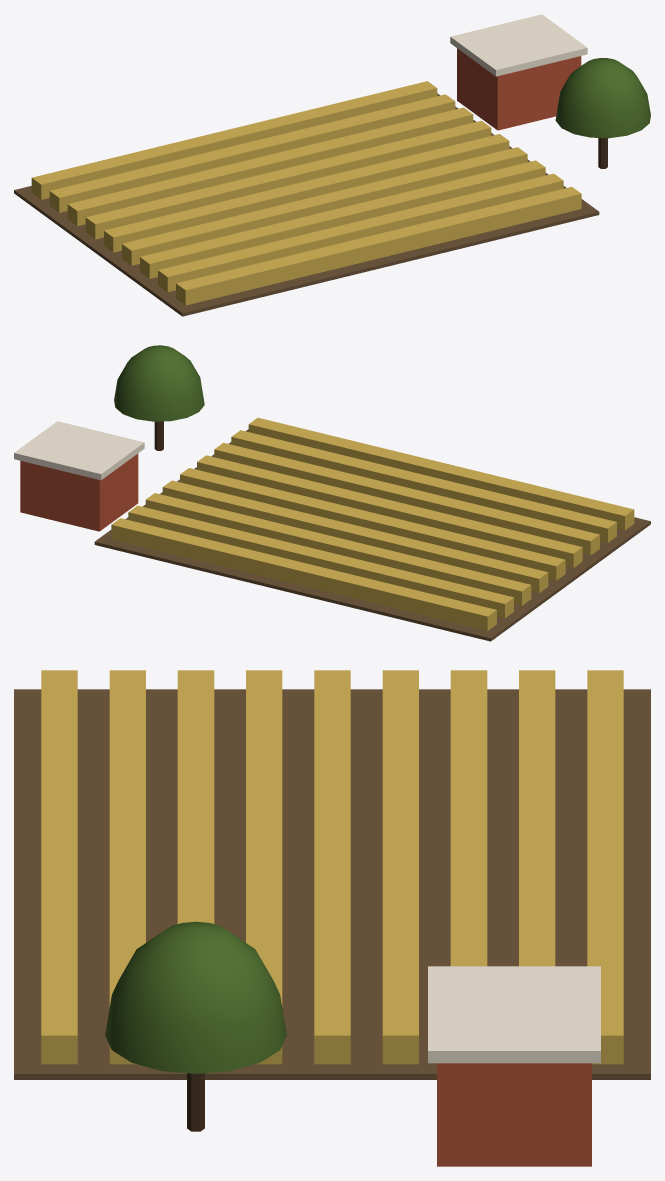
File: farm.glb
3 views of the same model, one above another, from view 1: azimuth 30°, elevation 25°; view 2: azimuth 150°, elevation 25°; view 3: azimuth 270°, elevation 25° (orthographic). The views are drawn at different scales.
Visible parts, largest first — view 1: Farm; view 2: Farm; view 3: Farm.
Boxes of the visible parts, x1,y1,x2,y2 form: Farm: (14, 14, 650, 316); Farm: (14, 345, 650, 641); Farm: (14, 670, 650, 1166).
Bounding box in the file's own units: 24.7 × 4.85 × 14.
